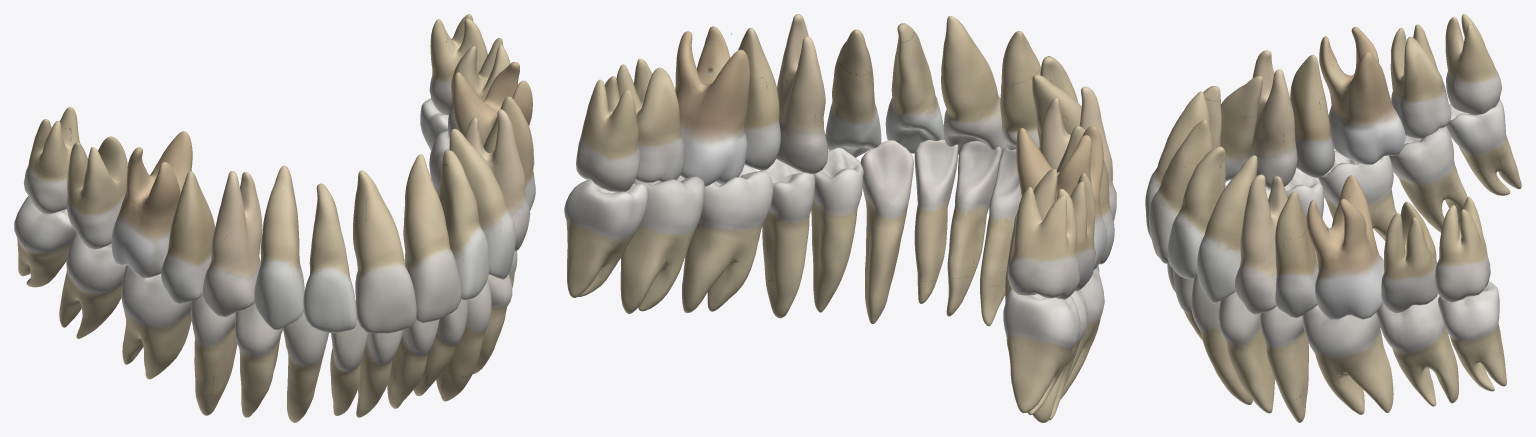
3 renders of one model, left to right at view 1: azimuth 30°, elevation 25°; view 2: azimuth 150°, elevation 25°; view 3: azimuth 270°, elevation 25°, orthographic. The views are drawn at different scales.
Visible parts, largest first — view 1: ZBrushPolyMesh3D2 (×2), ZBrushPolyMesh3D1 (×2), polySurface2, polySurface8, ZBrushPolyMesh3D3 (×2), polySurface1, ZBrushPolyMesh3D5 (×2), ZBrushPolyMesh3D8, polySurface6, ZBrushPolyMesh3D4 (×2), ZBrushPolyMesh3D7 (×2), polySurface10 (+12 smaller); view 2: ZBrushPolyMesh3D7 (×2), ZBrushPolyMesh3D5, LL6seam_2:ZBrushPolyMesh3D, LL7seam_2:ZBrushPolyMesh3D, ZBrushPolyMesh3D, LL8seam_2:ZBrushPolyMesh3D, ZBrushPolyMesh3D2 (×2), LL3seam_2:ZBrushPolyMesh3D, polySurface12, ZBrushPolyMesh3D1 (×2), ZBrushPolyMesh3D3, polySurface1 (+13 smaller); view 3: ZBrushPolyMesh3D1 (×2), ZBrushPolyMesh3D2 (×2), ZBrushPolyMesh3D5, polySurface8, LL6seam_2:ZBrushPolyMesh3D, LL7seam_2:ZBrushPolyMesh3D, ZBrushPolyMesh3D4 (×2), polySurface10, ZBrushPolyMesh3D3, polySurface9, LL8seam_2:ZBrushPolyMesh3D, ZBrushPolyMesh3D8 (+12 smaller).
Boxes of the visible parts, left/top/right/bottom form: ZBrushPolyMesh3D2 (×2): left=121, top=128, right=515, bottom=379; ZBrushPolyMesh3D1 (×2): left=59, top=150, right=489, bottom=338; polySurface2: left=353, top=170, right=416, bottom=333; polySurface8: left=111, top=131, right=192, bottom=278; ZBrushPolyMesh3D3 (×2): left=235, top=109, right=530, bottom=417; polySurface1: left=403, top=154, right=461, bottom=322; ZBrushPolyMesh3D5 (×2): left=283, top=62, right=534, bottom=422; ZBrushPolyMesh3D8: left=202, top=171, right=262, bottom=317; polySurface6: left=254, top=165, right=304, bottom=329; ZBrushPolyMesh3D4 (×2): left=191, top=96, right=535, bottom=415; ZBrushPolyMesh3D7 (×2): left=356, top=14, right=487, bottom=417; polySurface10: left=66, top=136, right=127, bottom=249; ZBrushPolyMesh3D7 (×2): left=576, top=76, right=1021, bottom=326; ZBrushPolyMesh3D5: left=675, top=26, right=750, bottom=186; LL6seam_2:ZBrushPolyMesh3D: left=682, top=164, right=772, bottom=313; LL7seam_2:ZBrushPolyMesh3D: left=620, top=176, right=704, bottom=313; ZBrushPolyMesh3D: left=1003, top=289, right=1080, bottom=415; LL8seam_2:ZBrushPolyMesh3D: left=564, top=179, right=648, bottom=297; ZBrushPolyMesh3D2 (×2): left=825, top=29, right=1104, bottom=399; LL3seam_2:ZBrushPolyMesh3D: left=860, top=140, right=913, bottom=323; polySurface12: left=1007, top=187, right=1079, bottom=299; ZBrushPolyMesh3D1 (×2): left=885, top=23, right=1087, bottom=422; ZBrushPolyMesh3D3: left=776, top=14, right=827, bottom=174; polySurface1: left=941, top=16, right=1007, bottom=154; ZBrushPolyMesh3D1 (×2): left=1167, top=126, right=1467, bottom=279; ZBrushPolyMesh3D2 (×2): left=1196, top=150, right=1396, bottom=303; ZBrushPolyMesh3D5: left=1306, top=175, right=1384, bottom=320; polySurface8: left=1319, top=27, right=1405, bottom=164; LL6seam_2:ZBrushPolyMesh3D: left=1302, top=305, right=1393, bottom=414; LL7seam_2:ZBrushPolyMesh3D: left=1376, top=293, right=1458, bottom=406; ZBrushPolyMesh3D4 (×2): left=1275, top=168, right=1323, bottom=317; polySurface10: left=1390, top=24, right=1451, bottom=138; ZBrushPolyMesh3D3: left=1235, top=174, right=1287, bottom=314; polySurface9: left=1381, top=201, right=1437, bottom=313; LL8seam_2:ZBrushPolyMesh3D: left=1438, top=281, right=1506, bottom=391; ZBrushPolyMesh3D8: left=1248, top=50, right=1297, bottom=189.
Size of the model in its own units: 2.59 by 1.54 by 1.91.
16 materials, 16 textured.
